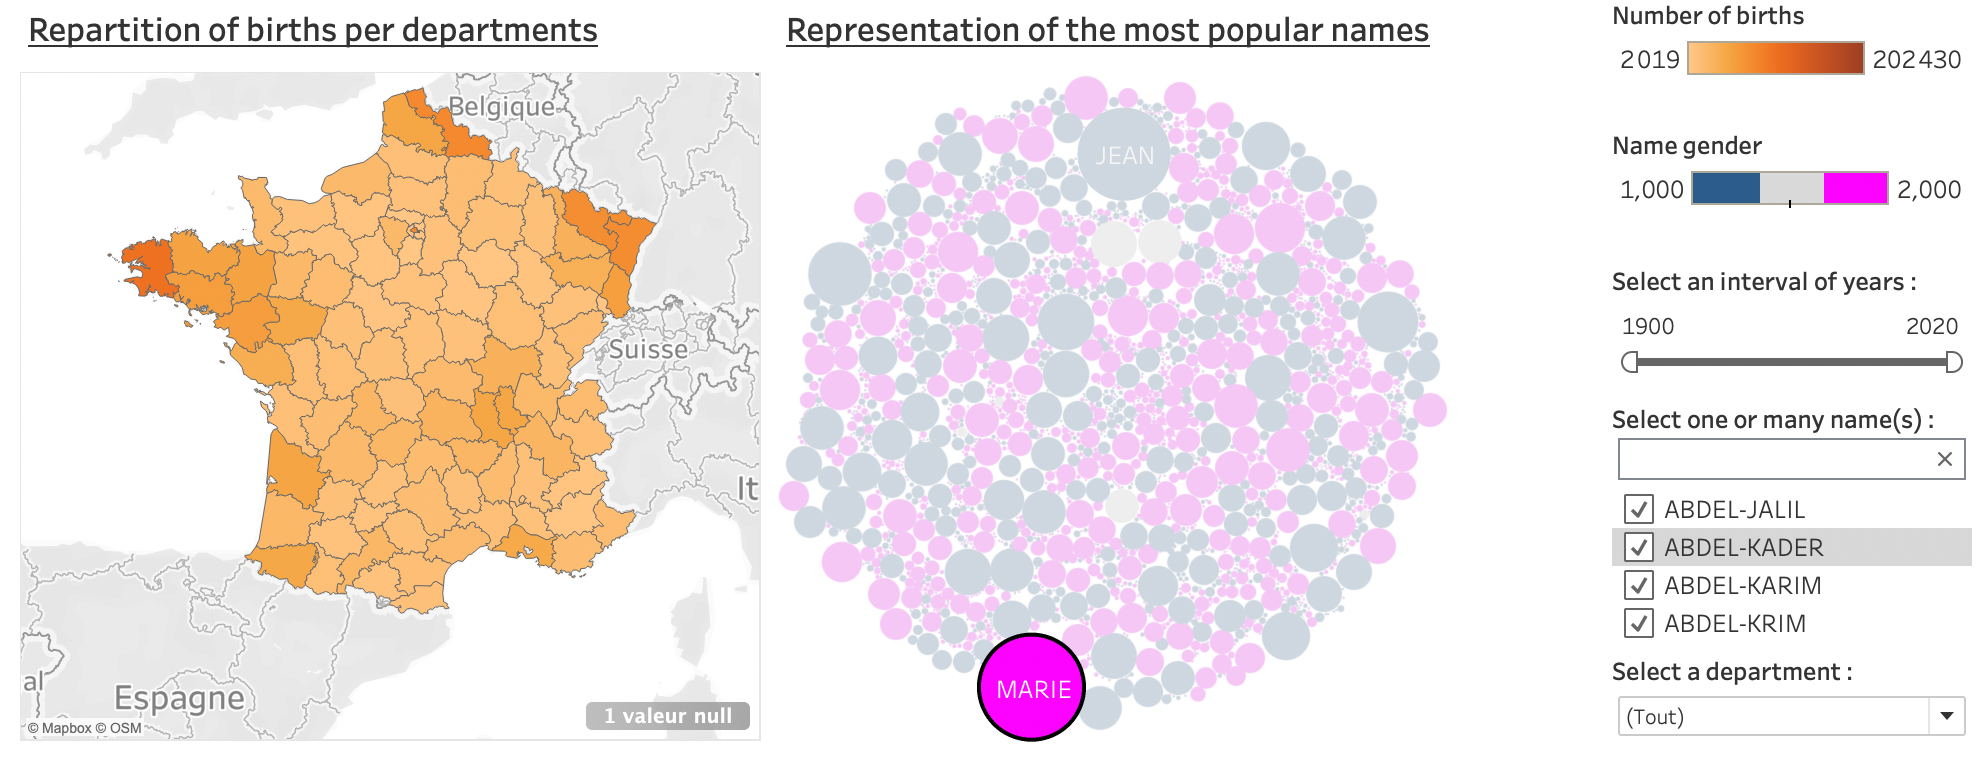

The dashboard page shown, as its layout file describes it:
{"tool":"tableau","page":{"name":"Question2","canvas":[1000,800],"ordinal":1},"visuals":[{"type":"worksheet","title":"Map France","mark":"Automatic","box":[8,8,421,784]},{"type":"legend","title":"Map France","param":"[federated.1gvausr021ll4w0zwiqct1gzo1lz].[sum:nombre:qk]","box":[429,8,281,72]},{"type":"filter","title":"Map France","param":"[federated.1gvausr021ll4w0zwiqct1gzo1lz].[none:nom:nk]","box":[710,8,282,72]},{"type":"legend","title":"Birth number","param":"[federated.1gvausr021ll4w0zwiqct1gzo1lz].[avg:sexe:qk]","box":[429,80,281.5,66]},{"type":"filter","title":"Map France","param":"[federated.1gvausr021ll4w0zwiqct1gzo1lz].[Action (Preusuel)]","box":[710.5,80,281.5,66]},{"type":"worksheet","title":"Birth number","mark":"Circle","box":[429,146,563,646]}]}

Visuals, with their boxes on the page's 1000x800 design canvas (x1, y1, x2, y2). These are canvas units, not pixel positions in the 1984x762 screenshot, which may show the page scaled, cropped or inside an application window:
"Map France" worksheet: detection(8, 8, 429, 792)
"Map France" legend: detection(429, 8, 710, 80)
"Map France" filter: detection(710, 8, 992, 80)
"Birth number" legend: detection(429, 80, 710, 146)
"Map France" filter: detection(710, 80, 992, 146)
"Birth number" worksheet (Circle marks): detection(429, 146, 992, 792)
